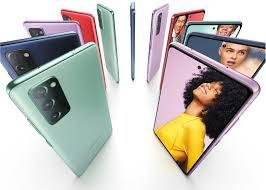Smartphone: (146, 53, 253, 176), (14, 77, 120, 176), (189, 19, 266, 81), (149, 9, 203, 93), (62, 7, 107, 98), (0, 29, 73, 76), (148, 0, 173, 85), (96, 3, 119, 85), (22, 23, 84, 50), (129, 0, 136, 85)
